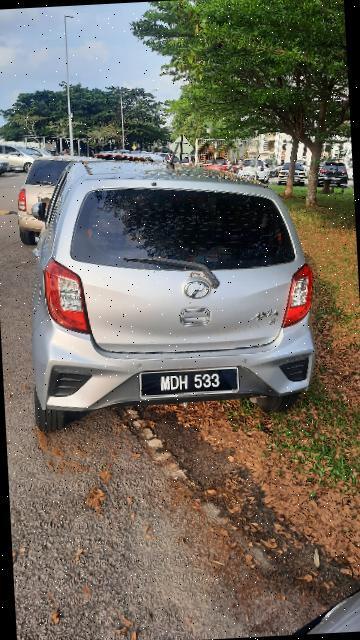License_Plate: (136, 363, 243, 400)
car: (17, 153, 326, 427)
